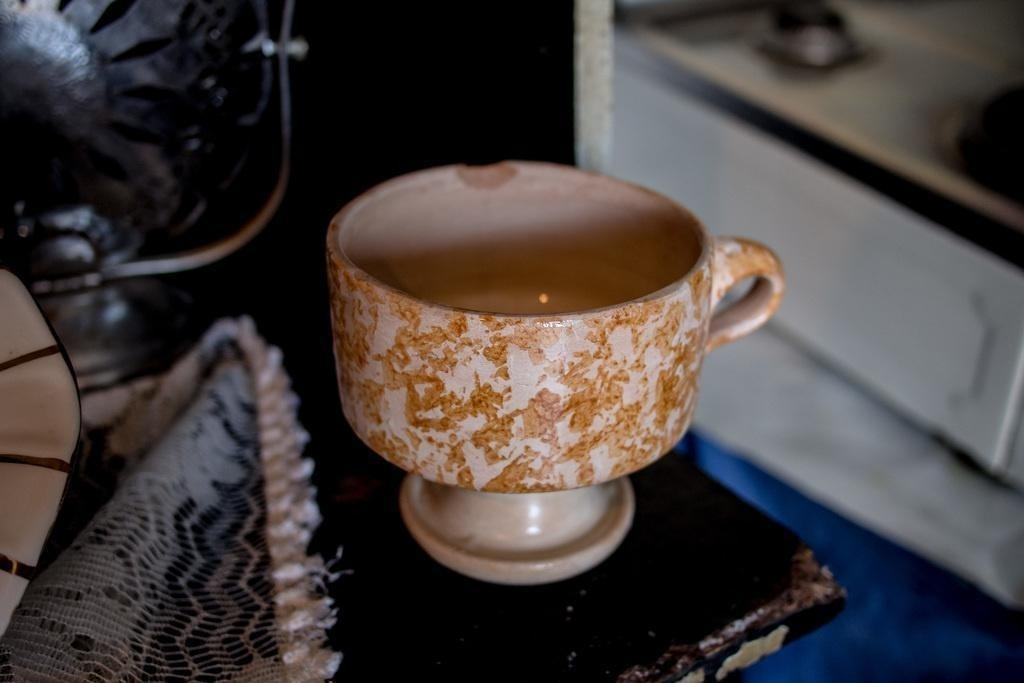cup-handle: (321, 157, 789, 590)
